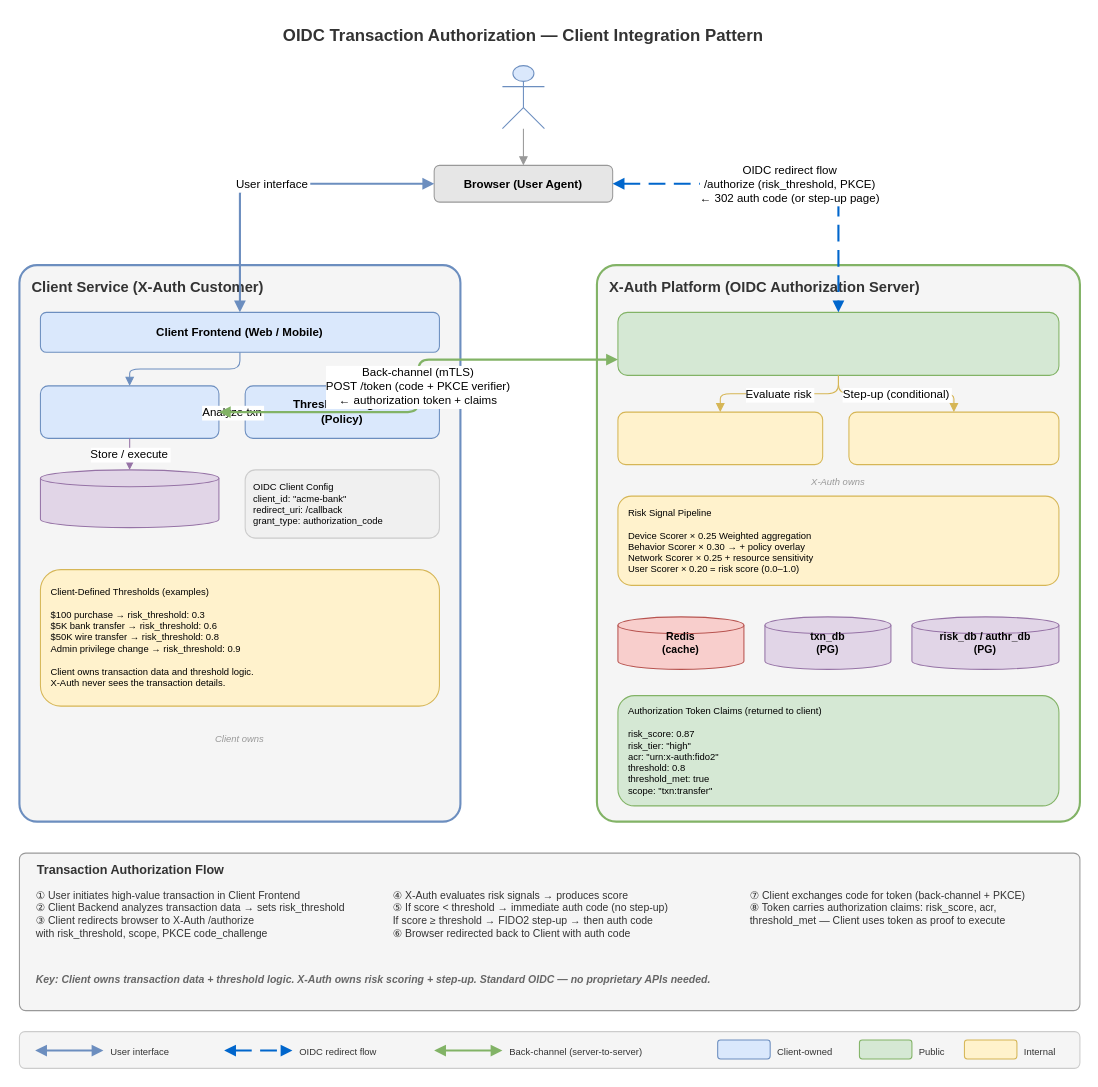
The diagram is 1098 pixels wide and 1087 high, and some of its shapes have lost their labels. The centre of each missing label's shape, as x and y in pixels:
"authenticator-service :8083 (FIDO2 / OTP / Push)" belongs at (953,438).
"Client Backend (API Server)" belongs at (129,411).
"End User" belongs at (522,97).
"risk-service :8081 (Scoring Pipeline)" belongs at (720,438).
"Transaction DB" belongs at (129,498).
"transaction-service :8080 OIDC Authorization Server /authorize /token /userinfo" belongs at (838,343).
